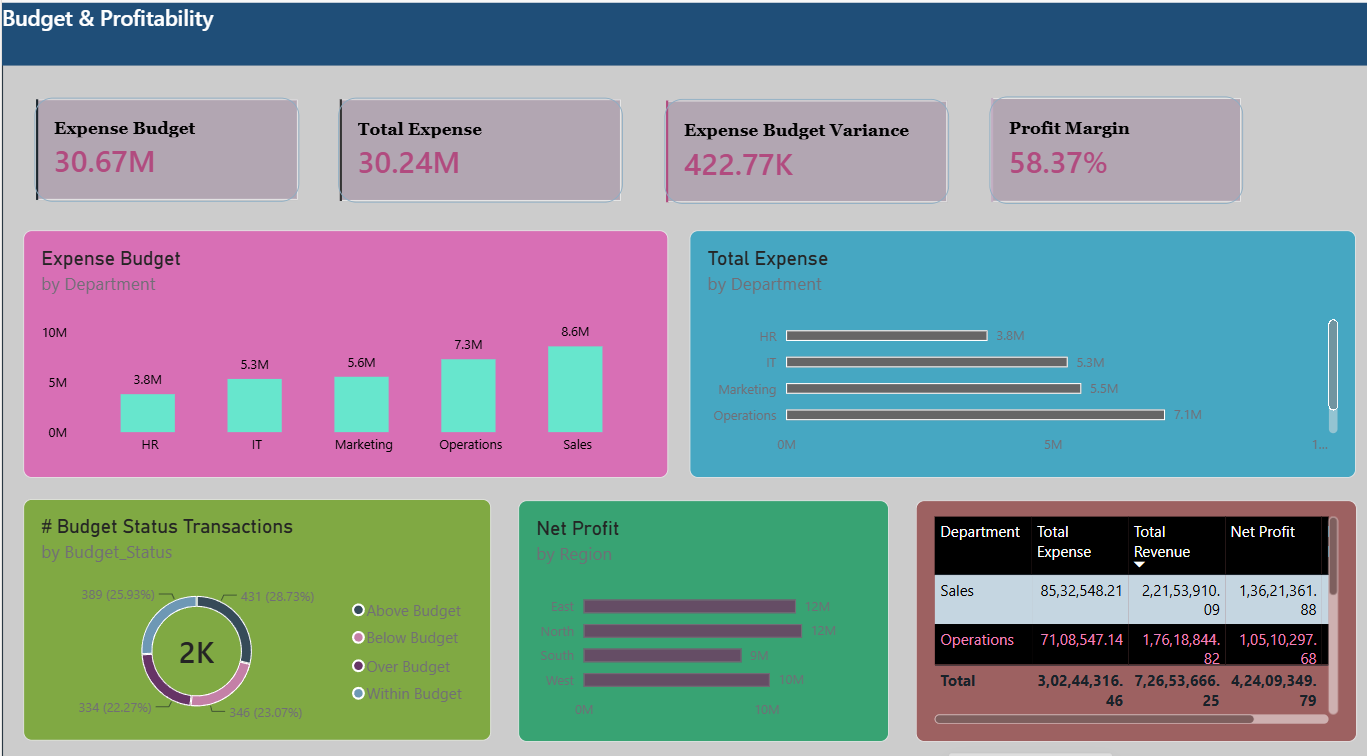

The page's visual inventory and layout, read from the dashboard file:
{"tool":"powerbi","page":{"name":"Budget & Profitability","canvas":[1280,720],"ordinal":3},"visuals":[{"type":"shape","box":[0,70.3,1280,650],"z":0,"group":"g1"},{"type":"donutChart","title":"Transactions by Budget Status","fields":{"Category":["FinancialTransactions.Budget_Status"],"Y":["FinancialTransactions.# Budget Status Transactions"]},"box":[20,474.8,435,225],"z":1000,"group":"g1"},{"type":"clusteredBarChart","title":"Profit by Region","fields":{"Category":["FinancialTransactions.Region"],"Y":["FinancialTransactions.Net Profit"]},"box":[480,475.3,345,225],"z":2000,"group":"g1"},{"type":"clusteredColumnChart","title":"Expense Budget by Department","fields":{"Category":["FinancialTransactions.Department"],"Y":["FinancialTransactions.Expense Budget"]},"box":[20,224.8,600,230],"z":3000,"group":"g1"},{"type":"cardVisual","title":"Actual Expenses","fields":{"Data":["FinancialTransactions.Total Expense"]},"box":[302.5,90.3,285,118],"z":4000,"group":"g1"},{"type":"cardVisual","title":"Profit Margin","fields":{"Data":["FinancialTransactions.Profit Margin"]},"box":[908.1,89.8,257,120.9],"z":5000,"group":"g1"},{"type":"cardVisual","title":"Expense Budget Variance","fields":{"Data":["FinancialTransactions.Expense Budget Variance"]},"box":[606.2,91.6,285,118],"z":6000,"group":"g1"},{"type":"clusteredBarChart","title":"Actual Expenses by Department","fields":{"Category":["FinancialTransactions.Department"],"Y":["FinancialTransactions.Total Expense"]},"box":[640,224.8,620,230],"z":7000,"group":"g1"},{"type":"textbox","box":[0,12.8,1280,58],"z":8000,"group":"g1"},{"type":"tableEx","title":"Profit by Region","fields":{"Values":["FinancialTransactions.Department","FinancialTransactions.Total Expense","FinancialTransactions.Total Revenue","FinancialTransactions.Net Profit","FinancialTransactions.Profit Margin"]},"box":[850,475.3,410,225],"z":9000,"group":"g1"},{"type":"cardVisual","title":"Actual Expenses","fields":{"Data":["FinancialTransactions.Expense Budget"]},"box":[20,90.3,267.5,117.5],"z":10000,"group":"g1"},{"type":"group","id":"g1","title":"Group 1","box":[0,12.8,1280,707.5],"z":10001}]}

Visuals, with their boxes in screenshot pixels (x1, y1, x2, y2), scaled from the page's 1280x720 canvas onto the 1367x756 screenshot:
shape: <bbox>0, 74, 1366, 755</bbox>
"Transactions by Budget Status" donutChart: <bbox>21, 499, 486, 735</bbox>
"Profit by Region" clusteredBarChart: <bbox>513, 499, 881, 735</bbox>
"Expense Budget by Department" clusteredColumnChart: <bbox>21, 236, 662, 478</bbox>
"Actual Expenses" cardVisual: <bbox>323, 95, 627, 219</bbox>
"Profit Margin" cardVisual: <bbox>970, 94, 1244, 221</bbox>
"Expense Budget Variance" cardVisual: <bbox>647, 96, 952, 220</bbox>
"Actual Expenses by Department" clusteredBarChart: <bbox>684, 236, 1346, 478</bbox>
textbox: <bbox>0, 13, 1366, 74</bbox>
"Profit by Region" tableEx: <bbox>908, 499, 1346, 735</bbox>
"Actual Expenses" cardVisual: <bbox>21, 95, 307, 218</bbox>
"Group 1" group: <bbox>0, 13, 1366, 755</bbox>
